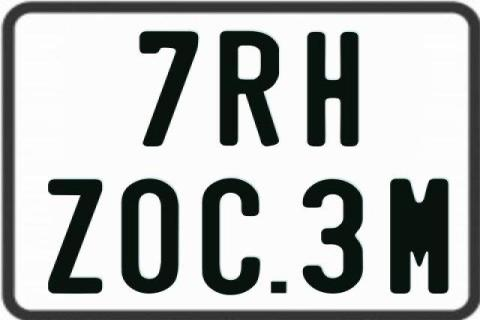0: (139, 31, 203, 150), (303, 180, 367, 298), (118, 178, 179, 296)
C: (199, 177, 260, 297)
H: (306, 32, 360, 146)
M: (387, 177, 449, 293)
R: (219, 30, 282, 148)
Z: (45, 178, 104, 296)
